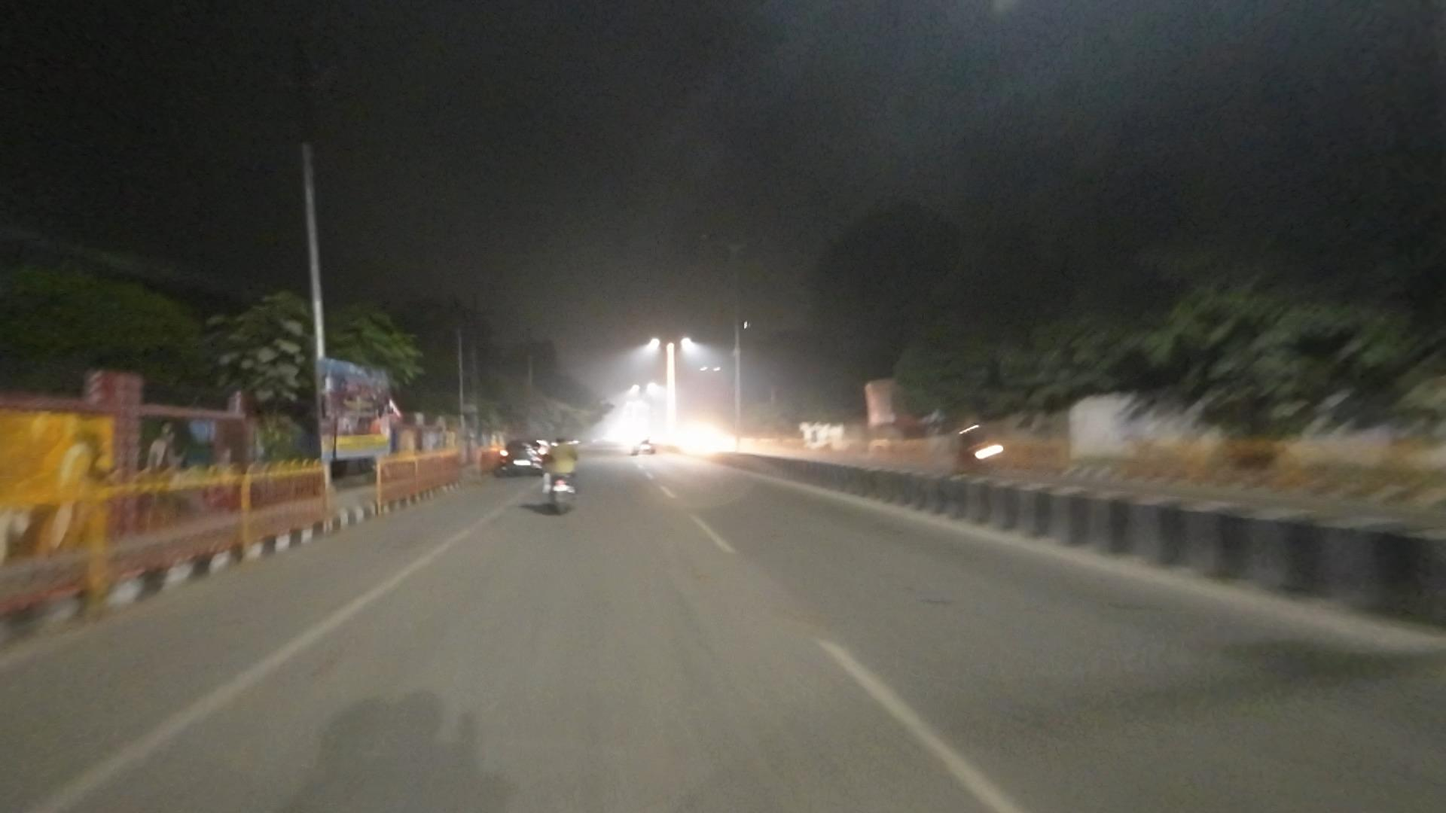streetlight: (700, 232, 727, 246), (743, 236, 765, 246)
